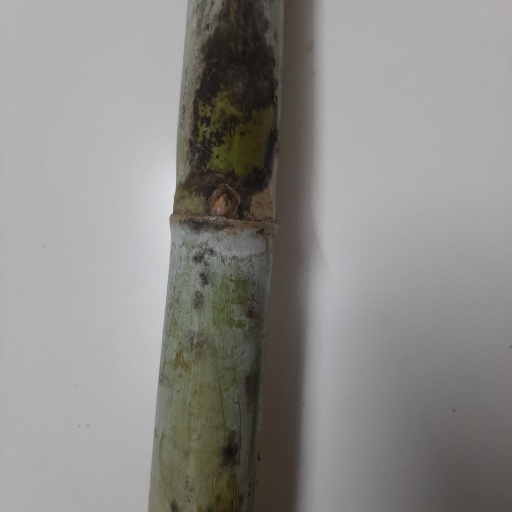Bud: (211, 187, 236, 218)
